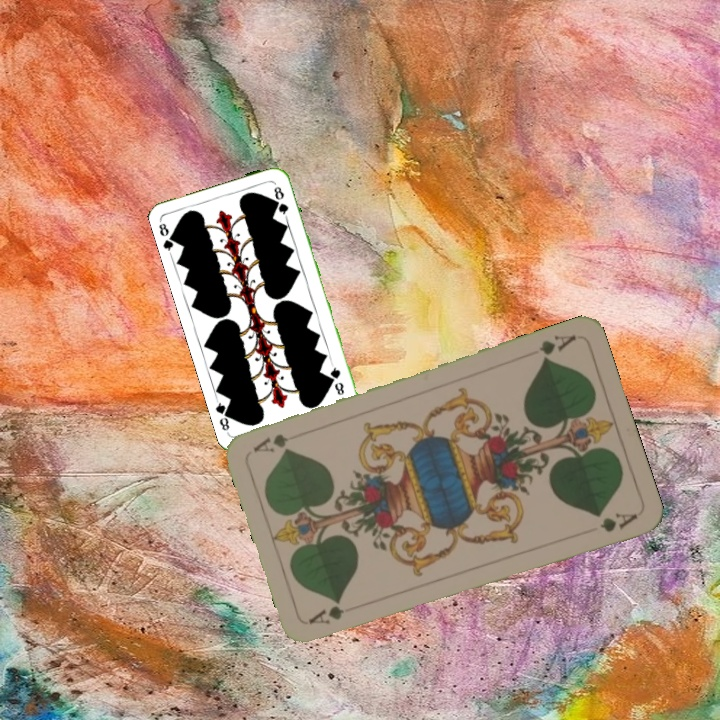G8: (155, 216, 180, 256), (326, 360, 347, 398)
GA: (535, 331, 579, 364), (305, 601, 347, 627)
